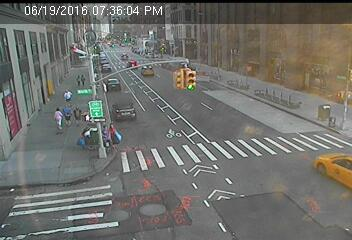neg: (200, 153, 228, 190), (262, 183, 286, 215), (254, 149, 276, 178), (303, 164, 323, 191), (76, 141, 95, 166), (293, 201, 310, 224), (146, 92, 162, 114), (45, 144, 61, 165), (190, 205, 205, 226), (131, 76, 145, 95), (119, 68, 128, 81), (112, 53, 117, 59)
pos: (67, 102, 88, 129), (50, 109, 64, 129), (61, 88, 73, 105), (73, 75, 82, 86), (80, 75, 88, 85)
